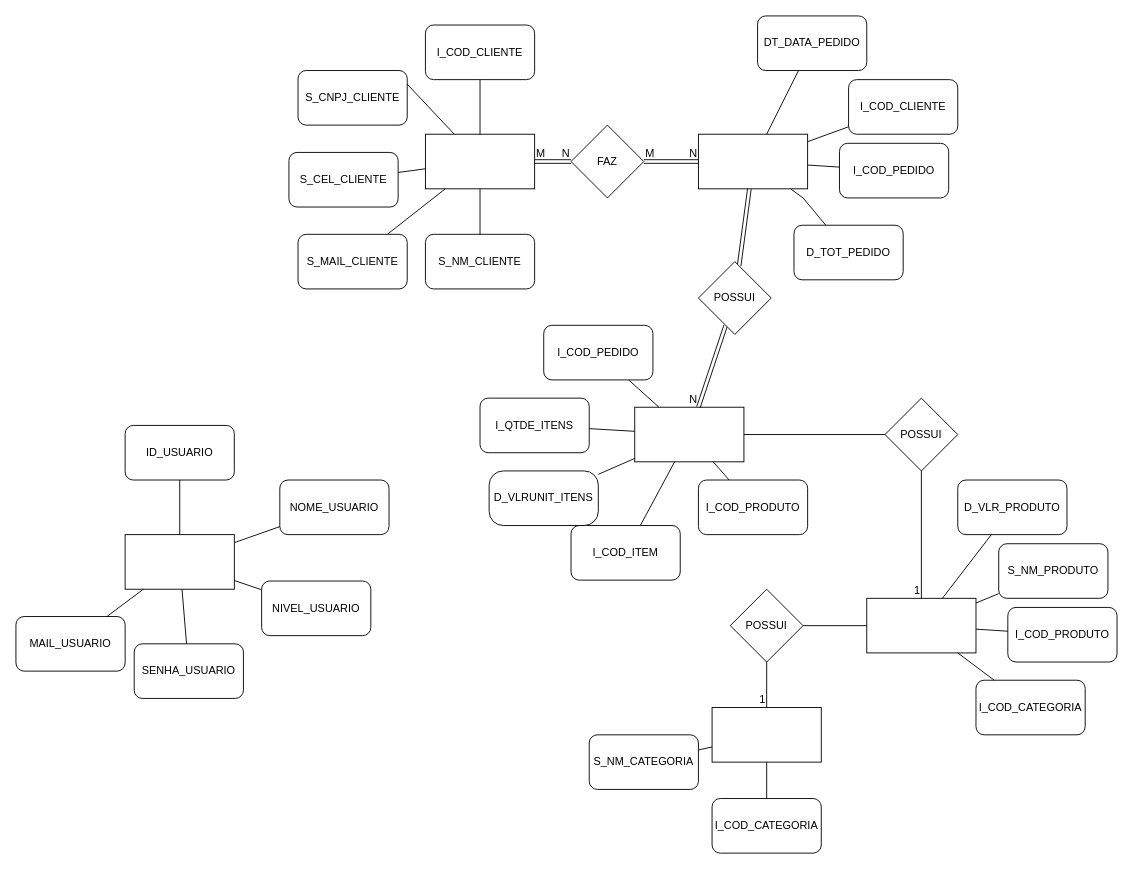
The diagram is 1133 pixels wide and 869 high, and some of its shapes have lost their labels. Each missing label, with the box of its shape:
TB_CATEGORIA: (711, 707, 821, 762)
TB_CLIENTE: (425, 133, 535, 189)
TB_ITENS: (634, 406, 744, 462)
TB_PEDIDO: (698, 133, 808, 189)
TB_PRODUTO: (866, 597, 976, 653)
TD_USUARIO: (124, 534, 234, 589)
